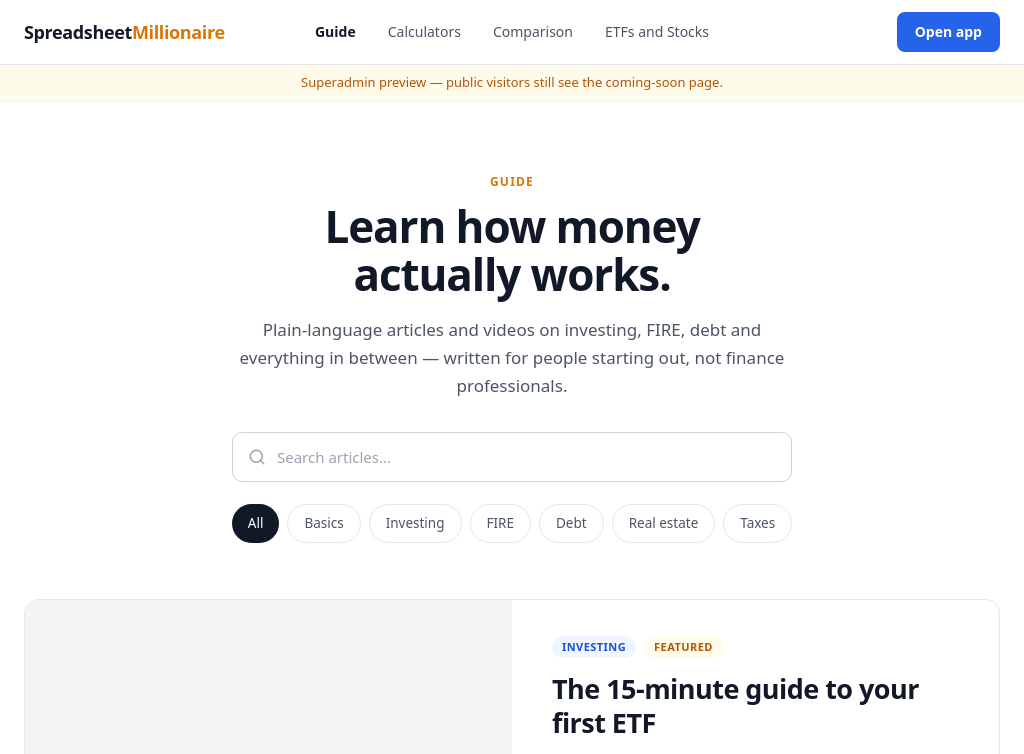
Scenario: GuidePage › a category with no placeholder articles shows the empty state
Click the button "Taxes": click(758, 524) [723, 504, 792, 543]
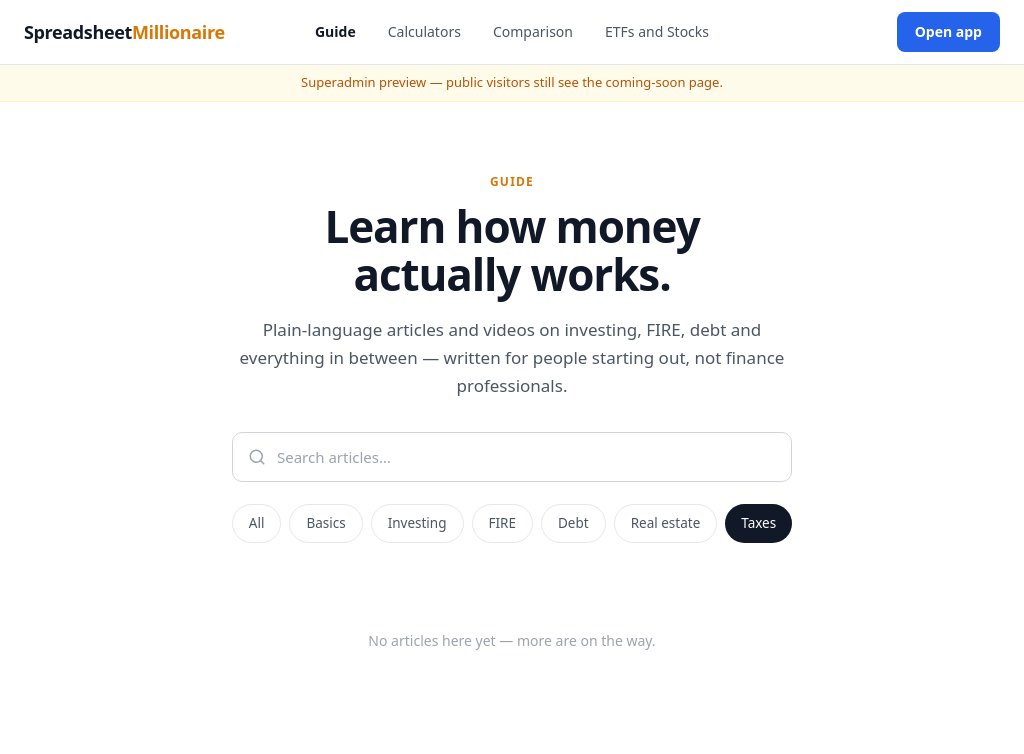
Now the text "No articles here yet — more are on the way." is shown, box [368, 631, 656, 650]
